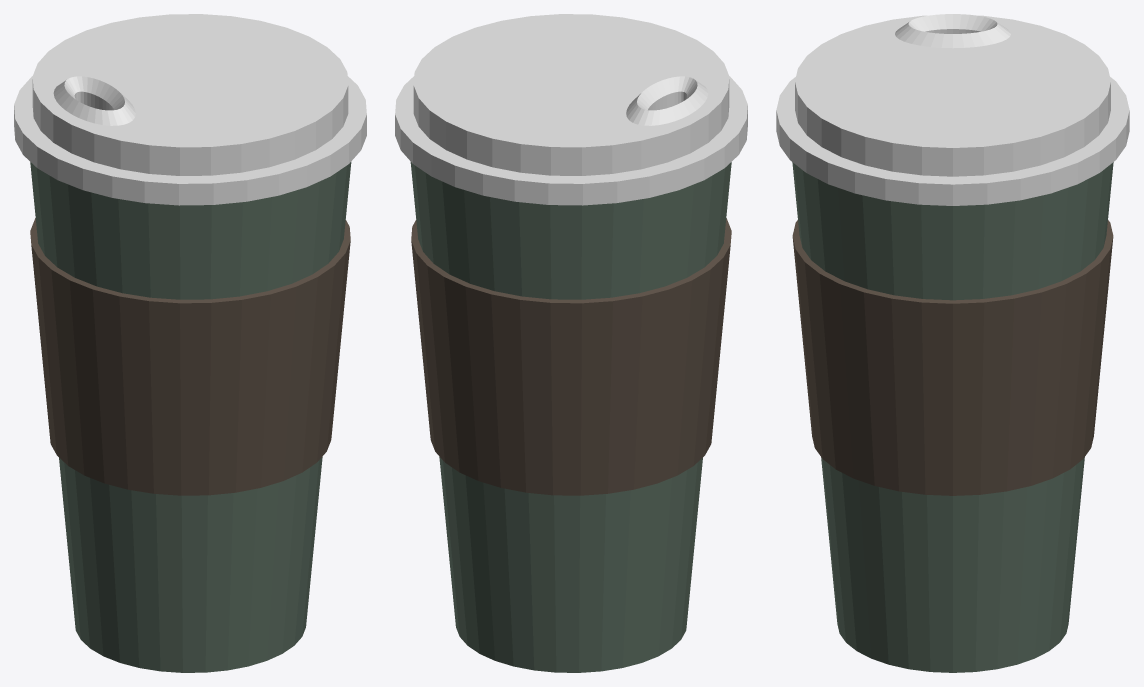
File: CoffeeCup.fbx
3 renders of one model, left to right at view 1: azimuth 30°, elevation 25°; view 2: azimuth 150°, elevation 25°; view 3: azimuth 270°, elevation 25°, orthographic.
Visible parts, largest first — view 1: Cup, Cardboard Holder, Lid; view 2: Cup, Cardboard Holder, Lid; view 3: Cup, Cardboard Holder, Lid.
Part boxes in pixels (x1,y1,x2,y2): Cup: [30, 162, 351, 672]; Cardboard Holder: [30, 218, 350, 495]; Lid: [14, 14, 366, 205]; Cup: [410, 162, 731, 672]; Cardboard Holder: [411, 218, 731, 495]; Lid: [395, 14, 747, 205]; Cup: [792, 162, 1113, 672]; Cardboard Holder: [792, 220, 1113, 495]; Lid: [776, 14, 1129, 205].
Bounding box in the file's own units: 10.69 × 18.48 × 10.69.
